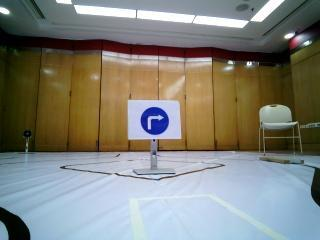right: (129, 99, 180, 138)
